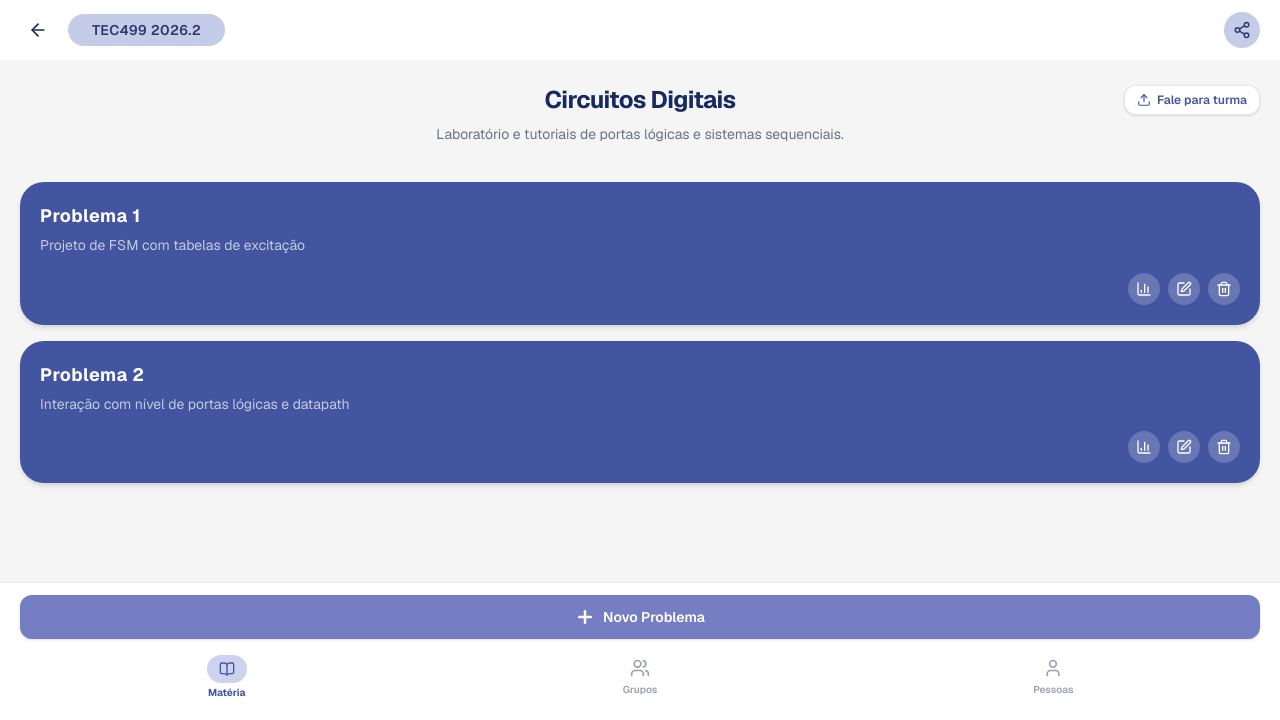
Test: [US05] Integração da página de disciplinas (CRUD de problemas) › [QA] Deve exibir o erro no modal, sem toast, e manter o problema quando o backend recusa a exclusão com 403
Expected: the heading "Problema 1" is shown, [40,204,141,227]
Step 1. Click the 2nd button named "Delete problem" → (1224, 447), box [1208,431,1240,463]
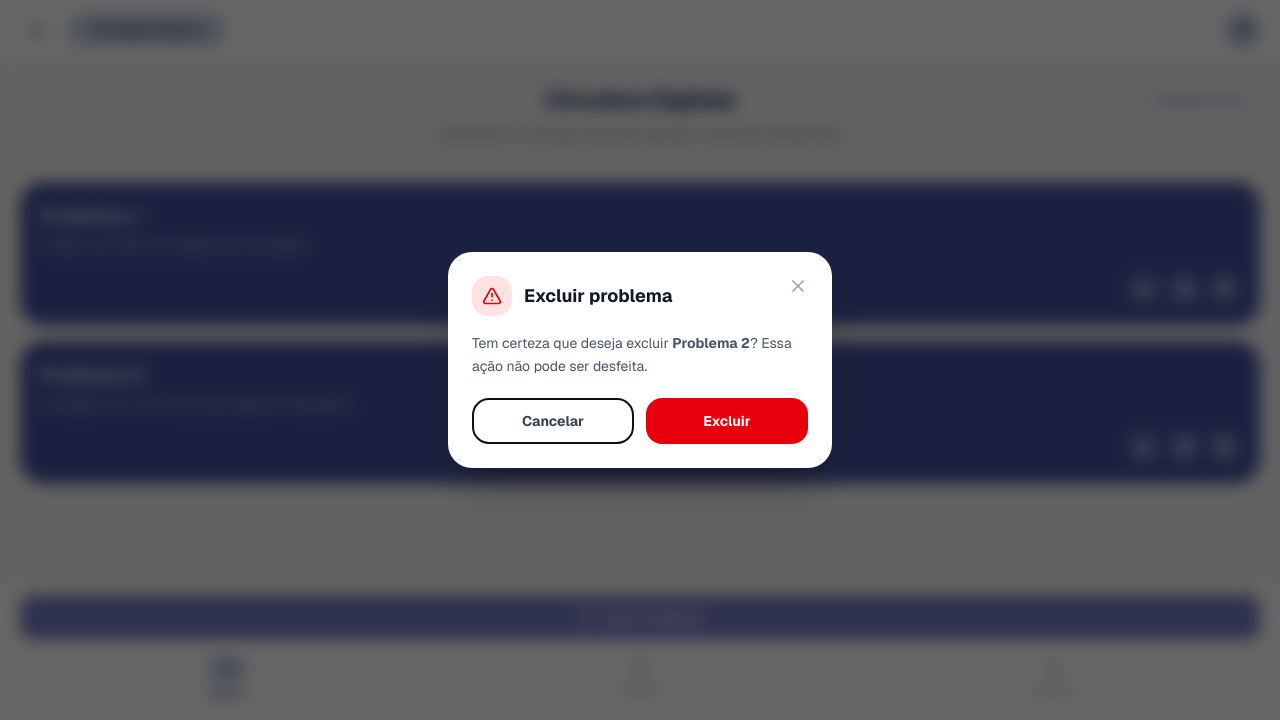
Step 2. Click the button "Excluir" → (727, 421), box [646,398,808,444]
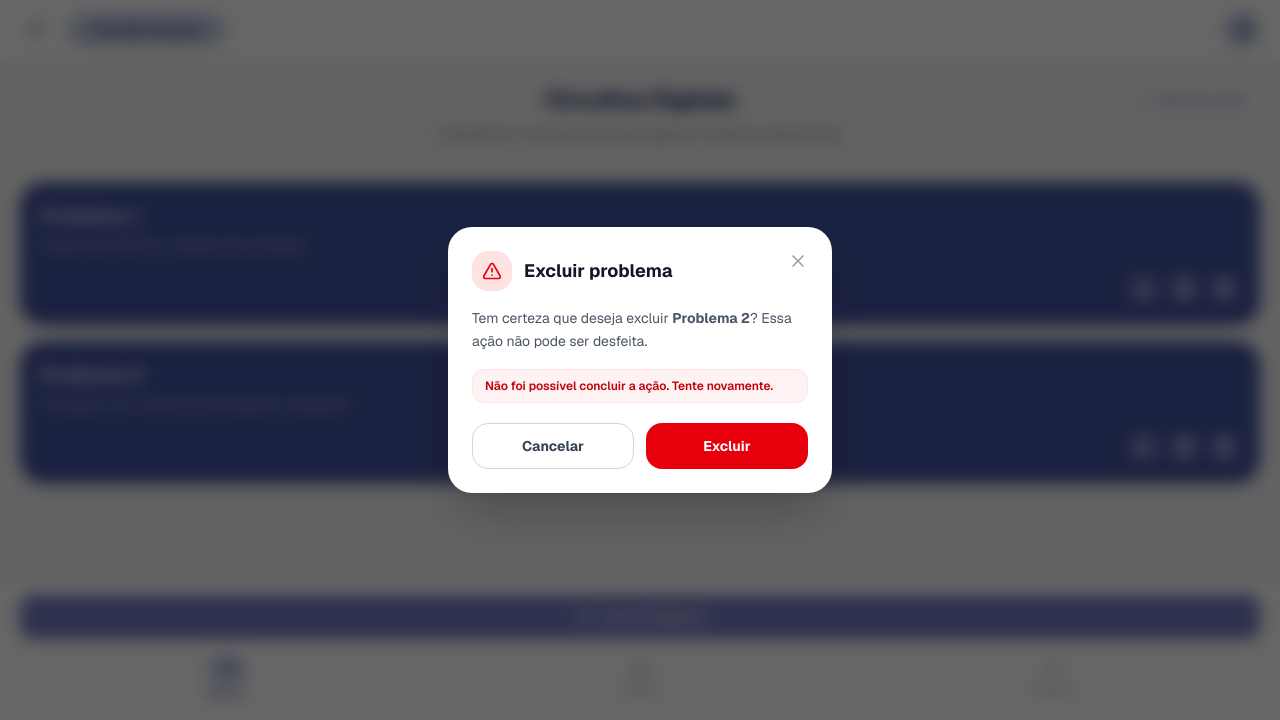
Now the message shows "Não foi possível concluir a ação", box [485,378,773,394]
